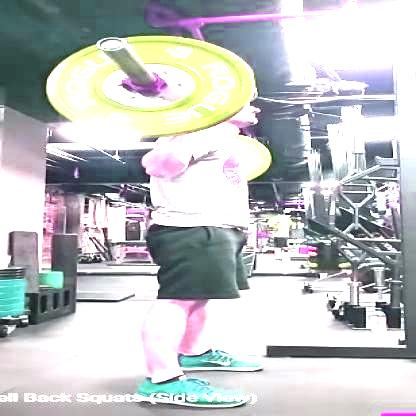Barbell: (98, 36, 131, 54)
